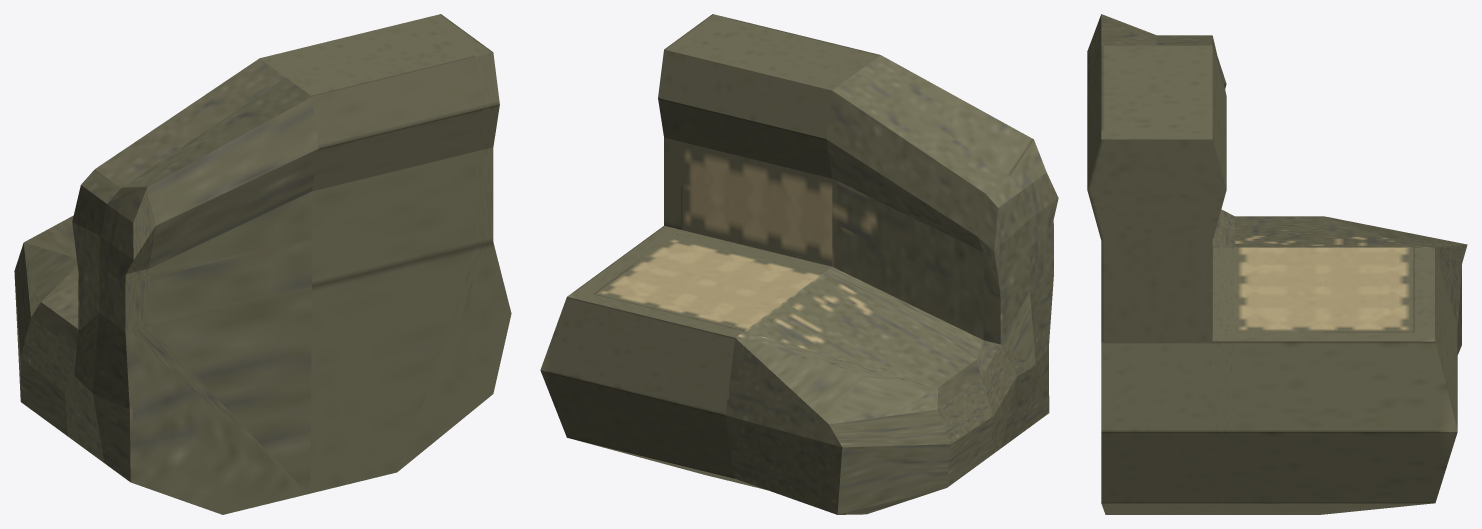
Rendered from Platform_13_Broken.fbx.
3 renders of one model, left to right at view 1: azimuth 30°, elevation 25°; view 2: azimuth 150°, elevation 25°; view 3: azimuth 270°, elevation 25°, orthographic. The views are drawn at different scales.
Parts seen in each view (by area): view 1: Platform_13_Broken_0; view 2: Platform_13_Broken_0; view 3: Platform_13_Broken_0.
Part boxes in pixels (x1=…): Platform_13_Broken_0: x1=14, y1=14, x2=511, y2=514; Platform_13_Broken_0: x1=540, y1=14, x2=1058, y2=514; Platform_13_Broken_0: x1=1087, y1=14, x2=1467, y2=514.
Size of the model in its own units: 217 by 210 by 171.
